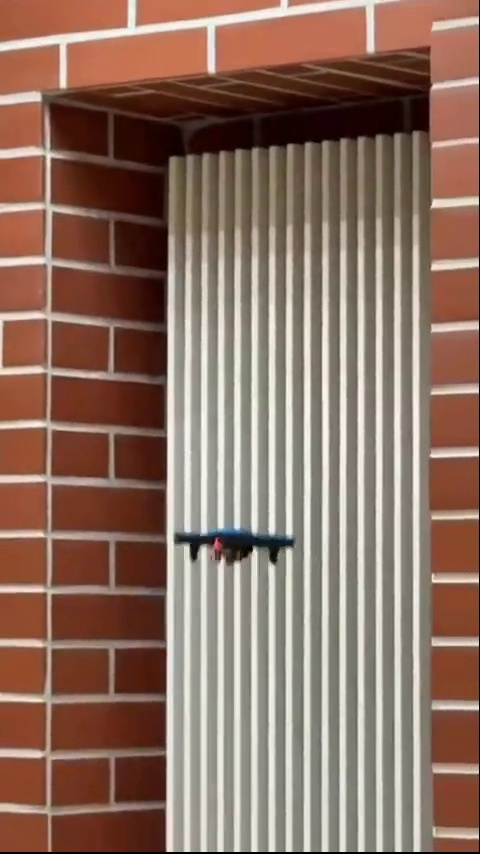drone: (176, 525, 294, 570)
